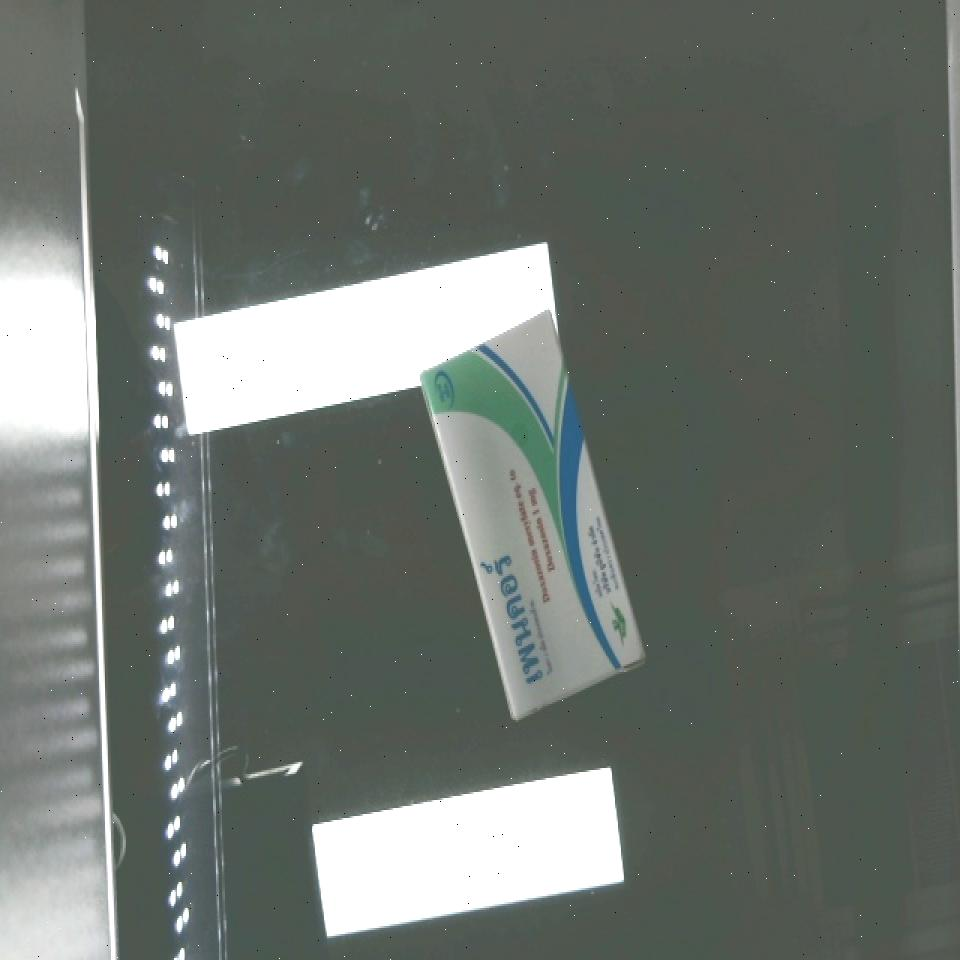medicine_box: (407, 310, 653, 720)
medicine_label_obb: (467, 526, 557, 704)
